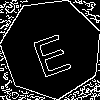E: (26, 24, 74, 79)
